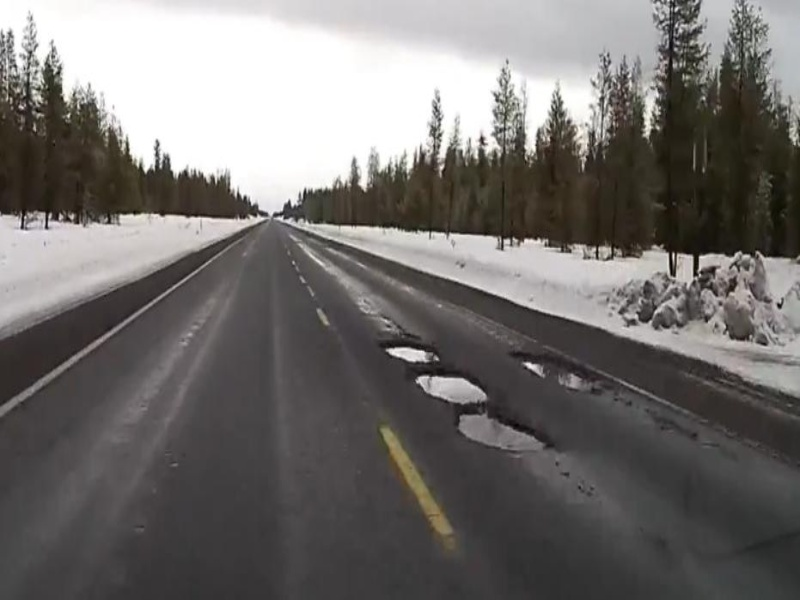pothole: (506, 347, 616, 402), (450, 407, 562, 458), (406, 363, 489, 403), (378, 337, 445, 368)
